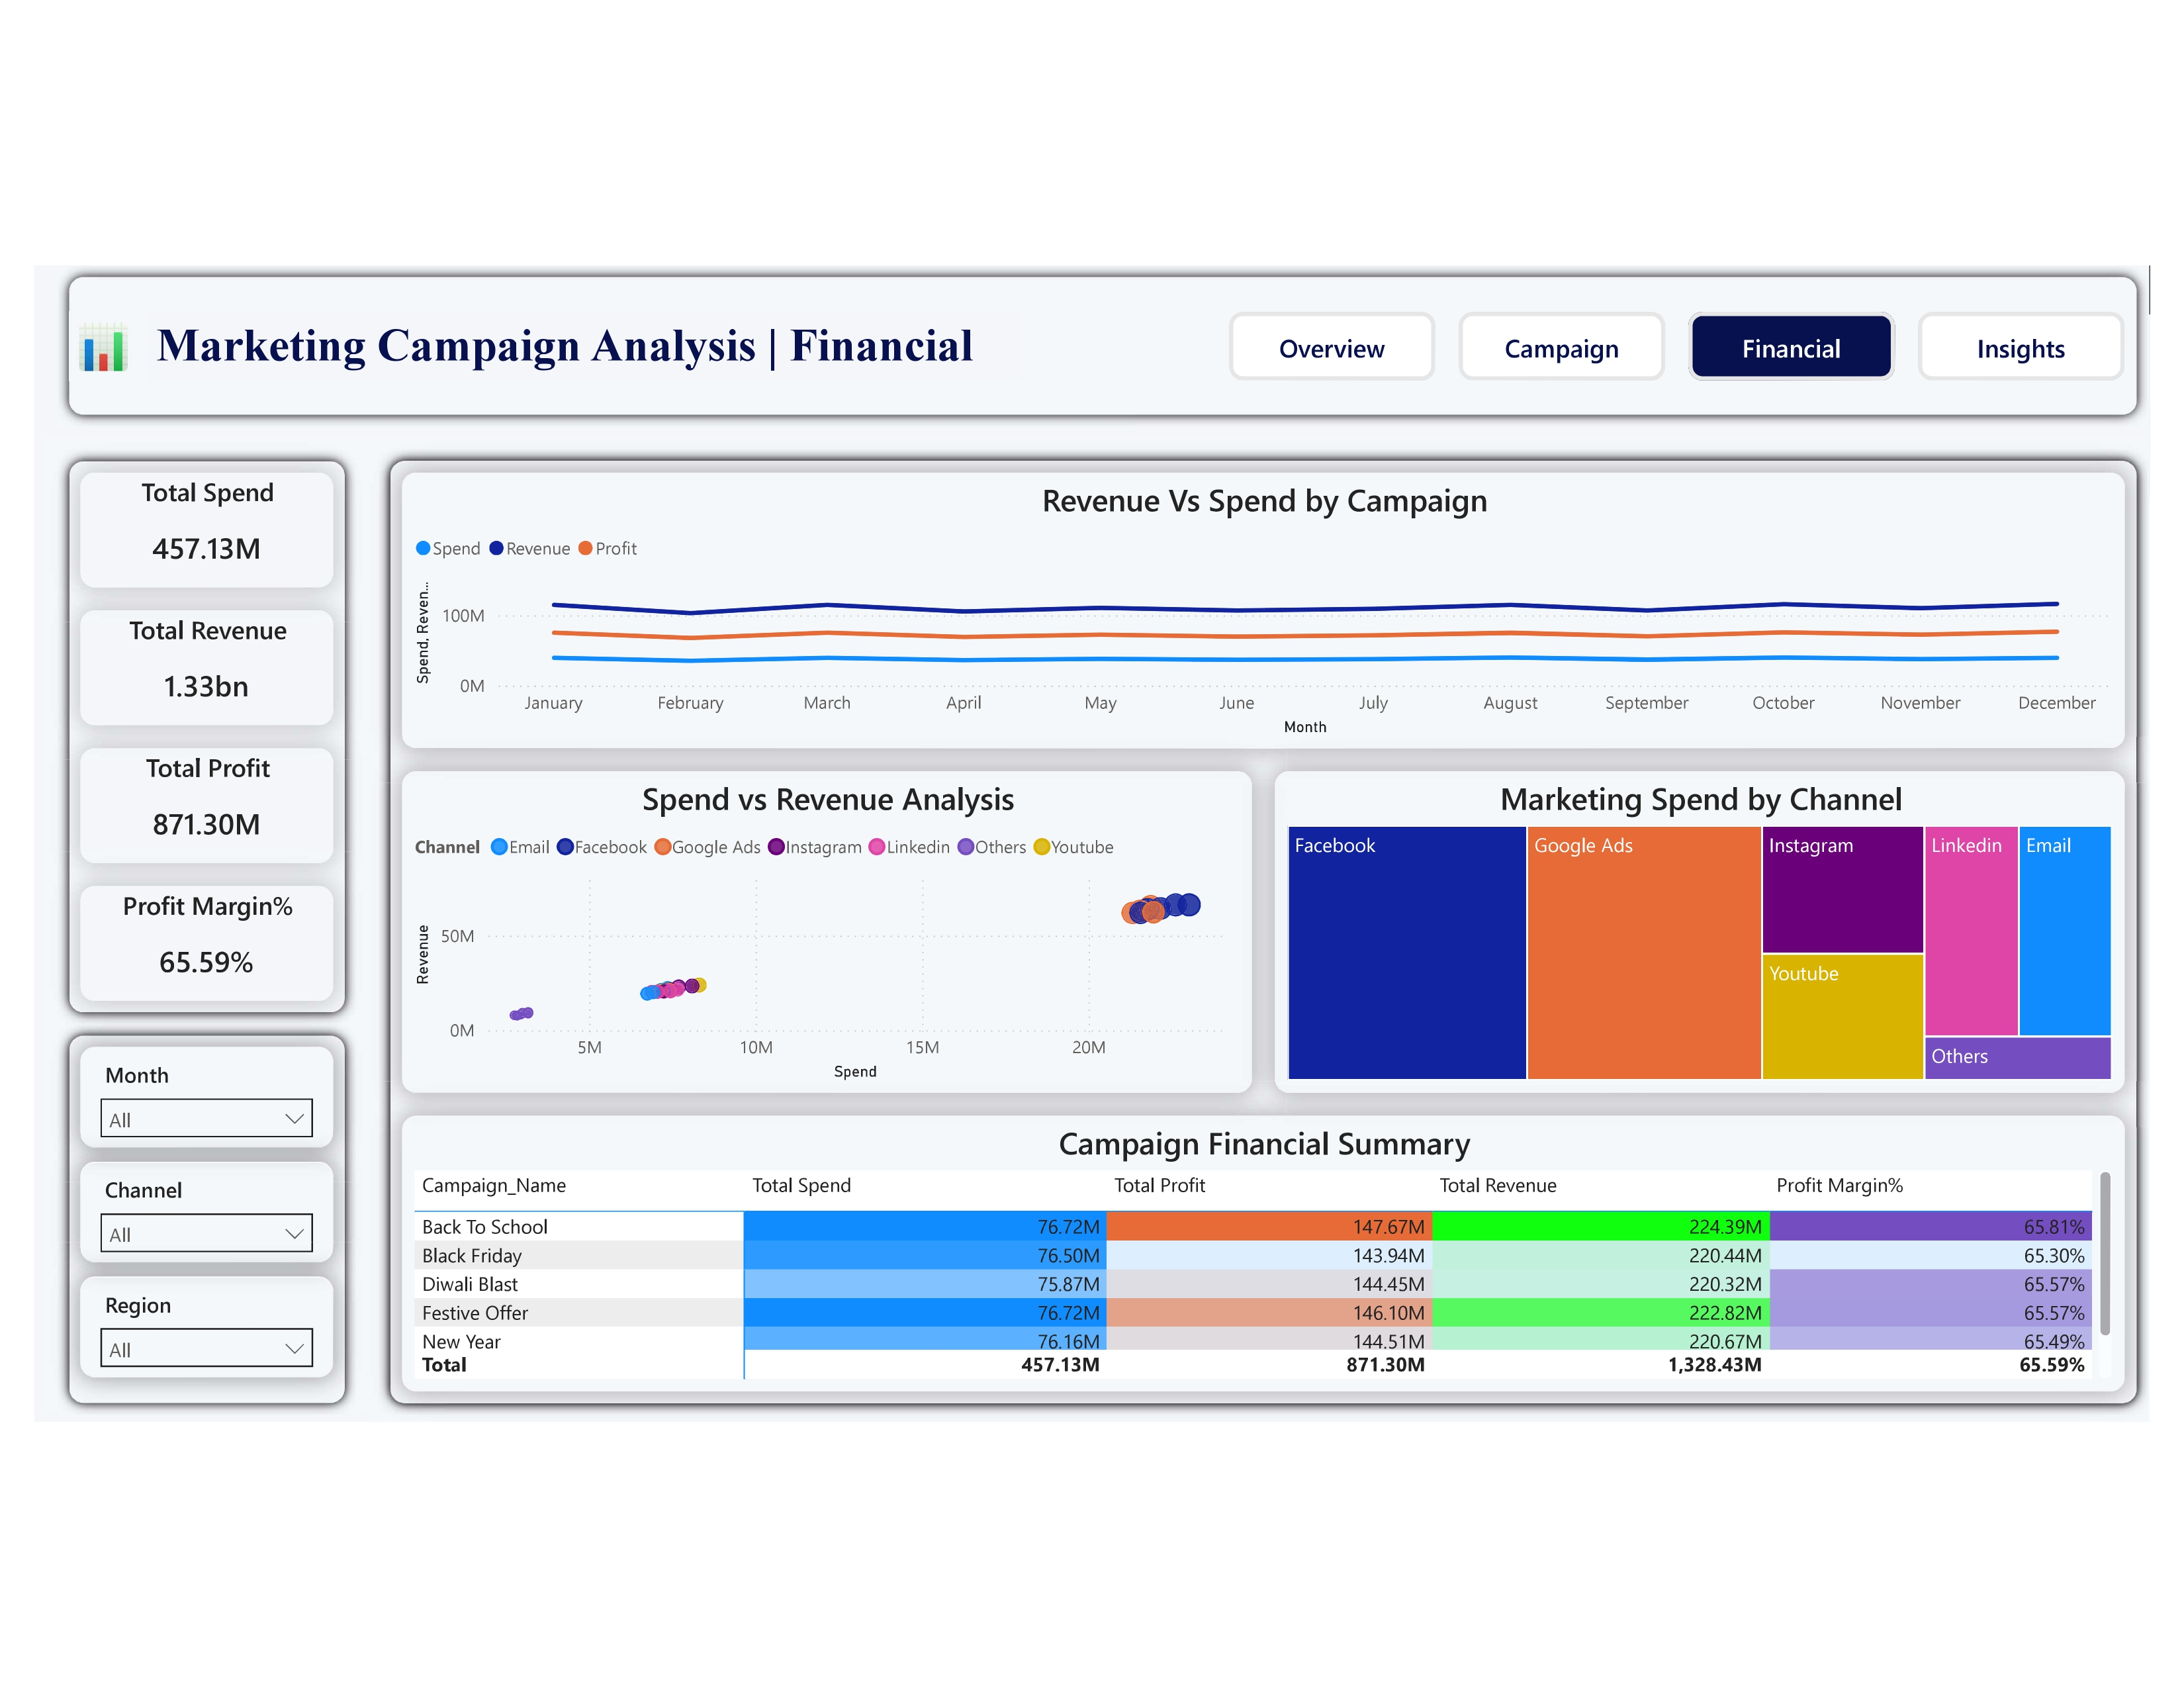

What the dashboard file says about the page in this screenshot:
{"tool":"powerbi","page":{"name":"Financial Analysis","canvas":[1473,805],"ordinal":2},"visuals":[{"type":"shape","box":[16,0,1456,112],"z":0},{"type":"textbox","box":[80,32,608,48],"z":1000},{"type":"actionButton","box":[832,32,144,48],"z":2000},{"type":"actionButton","box":[992,32,144,48],"z":3000},{"type":"actionButton","box":[1152,32,144,48],"z":4000},{"type":"shape","box":[16,128,208,400],"z":5000},{"type":"shape","box":[240,128,1232,672],"z":6000},{"type":"cardVisual","title":"Total Profit","fields":{"Data":["Sum(Marketing_Campaign_Cleaned_Fina.Profit)"]},"box":[32,336,176,80],"z":7000},{"type":"cardVisual","title":"Profit Margin%","fields":{"Data":["Marketing_Campaign_Cleaned_Fina.Overall Profit%"]},"box":[32,432,176,80],"z":8000},{"type":"image","box":[16,32,64,48],"z":9000},{"type":"cardVisual","title":"Total Revenue ","fields":{"Data":["Sum(Marketing_Campaign_Cleaned_Fina.Revenue)"]},"box":[32,240,176,80],"z":10000},{"type":"cardVisual","title":"Total Spend","fields":{"Data":["Sum(Marketing_Campaign_Cleaned_Fina.Spend)"]},"box":[32,144,176,80],"z":11000},{"type":"lineChart","title":"Revenue Vs Spend by Campaign","fields":{"Y":["Sum(Marketing_Campaign_Cleaned_Fina.Spend)","Sum(Marketing_Campaign_Cleaned_Fina.Revenue)","Sum(Marketing_Campaign_Cleaned_Fina.Profit)"],"Category":["Marketing_Campaign_Cleaned_Fina.Start_Date.Variation.Date Hierarchy.Month"]},"box":[256,144,1200,192],"z":12000},{"type":"shape","box":[16,528,208,272],"z":13000},{"type":"slicer","fields":{"Values":["Marketing_Campaign_Cleaned_Fina.Month"]},"box":[32,544,176,70],"z":14000},{"type":"slicer","fields":{"Values":["Marketing_Campaign_Cleaned_Fina.Channel"]},"box":[32,624,176,70],"z":15000},{"type":"slicer","fields":{"Values":["Marketing_Campaign_Cleaned_Fina.Region"]},"box":[32,704,176,70],"z":16000},{"type":"scatterChart","title":"Spend vs Revenue Analysis","fields":{"X":["Marketing_Campaign_Cleaned_Fina.Spend"],"Y":["Sum(Marketing_Campaign_Cleaned_Fina.Revenue)"],"Category":["Marketing_Campaign_Cleaned_Fina.Campaign_Name"],"Series":["Marketing_Campaign_Cleaned_Fina.Channel"],"Size":["Sum(Marketing_Campaign_Cleaned_Fina.Profit)"]},"box":[256,352,592,224],"z":17000},{"type":"treemap","title":"Marketing Spend by Channel","fields":{"Group":["Marketing_Campaign_Cleaned_Fina.Channel"],"Values":["Marketing_Campaign_Cleaned_Fina.Total Spend"]},"box":[864,352,592,224],"z":18000},{"type":"pivotTable","title":"Campaign Financial Summary","fields":{"Rows":["Marketing_Campaign_Cleaned_Fina.Campaign_Name"],"Values":["Sum(Marketing_Campaign_Cleaned_Fina.Spend)","Sum(Marketing_Campaign_Cleaned_Fina.Profit)","Sum(Marketing_Campaign_Cleaned_Fina.Revenue)","Marketing_Campaign_Cleaned_Fina.Profit Margin%"]},"box":[256,592,1200,192],"z":19000},{"type":"actionButton","box":[1312,32,144,48],"z":20000}]}

Visuals, with their boxes on the page's 1473x805 design canvas (x1, y1, x2, y2). These are canvas units, not pixel positions in the 2184x1688 screenshot, which may show the page scaled, cropped or inside an application window:
shape: box=[16, 0, 1472, 112]
textbox: box=[80, 32, 688, 80]
actionButton: box=[832, 32, 976, 80]
actionButton: box=[992, 32, 1136, 80]
actionButton: box=[1152, 32, 1296, 80]
shape: box=[16, 128, 224, 528]
shape: box=[240, 128, 1472, 800]
"Total Profit" cardVisual: box=[32, 336, 208, 416]
"Profit Margin%" cardVisual: box=[32, 432, 208, 512]
image: box=[16, 32, 80, 80]
"Total Revenue " cardVisual: box=[32, 240, 208, 320]
"Total Spend" cardVisual: box=[32, 144, 208, 224]
"Revenue Vs Spend by Campaign" lineChart: box=[256, 144, 1456, 336]
shape: box=[16, 528, 224, 800]
slicer - Marketing_Campaign_Cleaned_Fina.Month: box=[32, 544, 208, 614]
slicer - Marketing_Campaign_Cleaned_Fina.Channel: box=[32, 624, 208, 694]
slicer - Marketing_Campaign_Cleaned_Fina.Region: box=[32, 704, 208, 774]
"Spend vs Revenue Analysis" scatterChart: box=[256, 352, 848, 576]
"Marketing Spend by Channel" treemap: box=[864, 352, 1456, 576]
"Campaign Financial Summary" pivotTable: box=[256, 592, 1456, 784]
actionButton: box=[1312, 32, 1456, 80]
